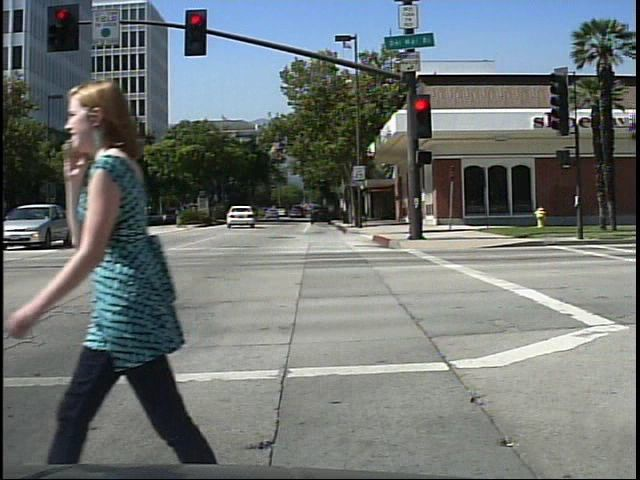person: (56, 63, 241, 466)
